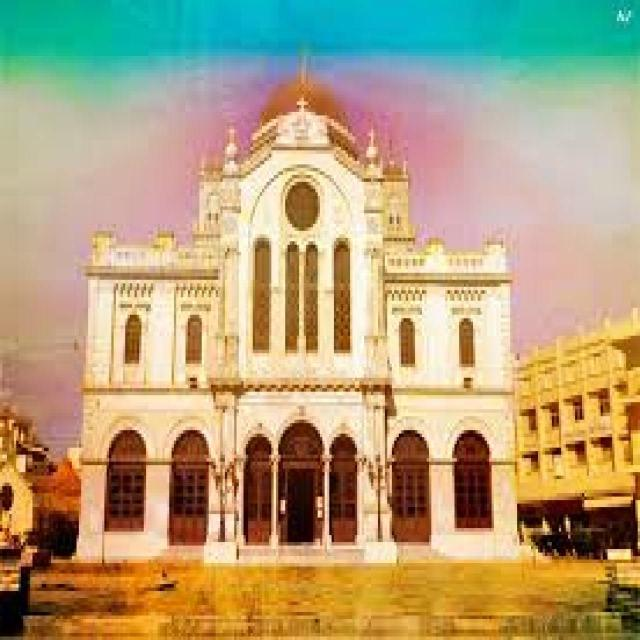Agios Minas: (72, 39, 528, 560)
